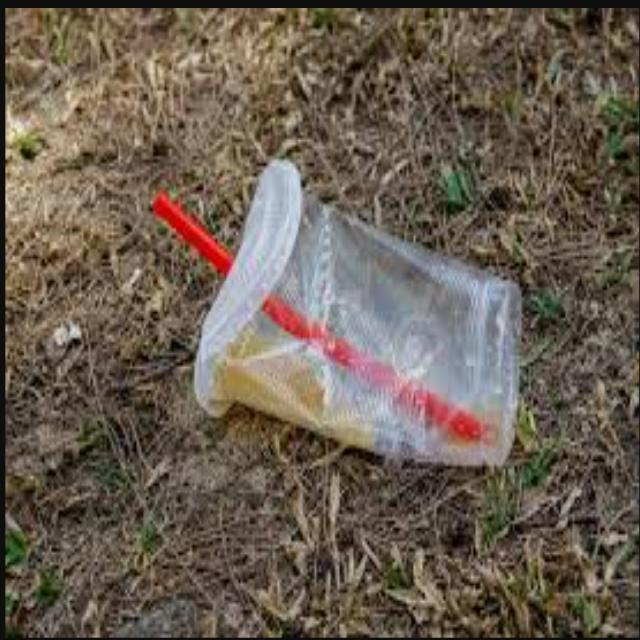GelasPlastik: (155, 156, 523, 470)
